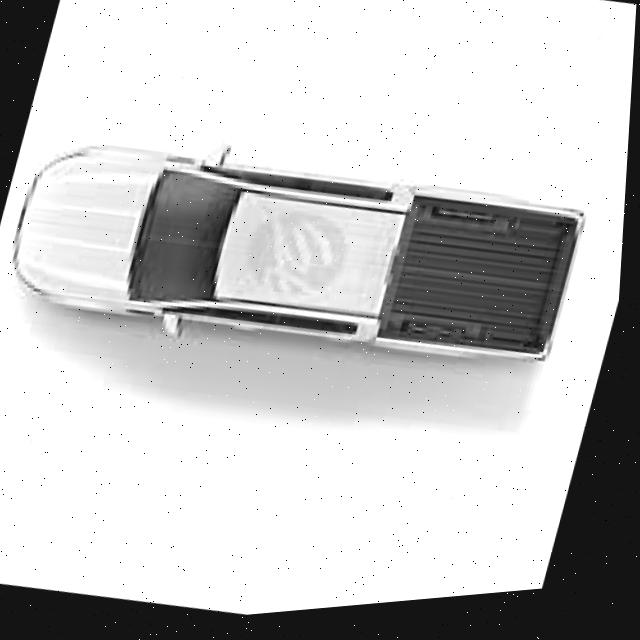truck: (0, 96, 597, 418)
